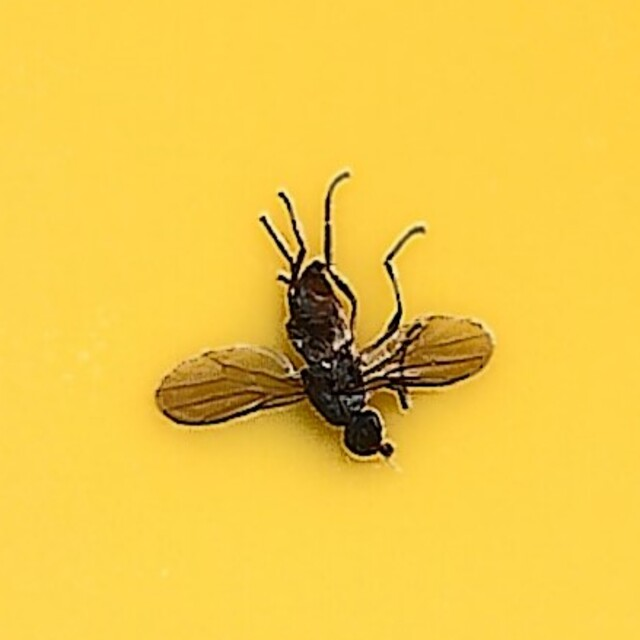Brachycera: (146, 169, 494, 471)
